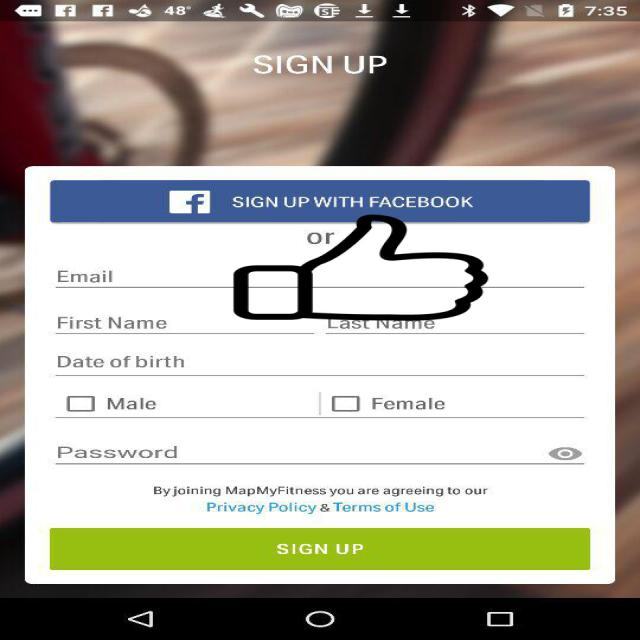privacy zuckering: (230, 214, 492, 320)
